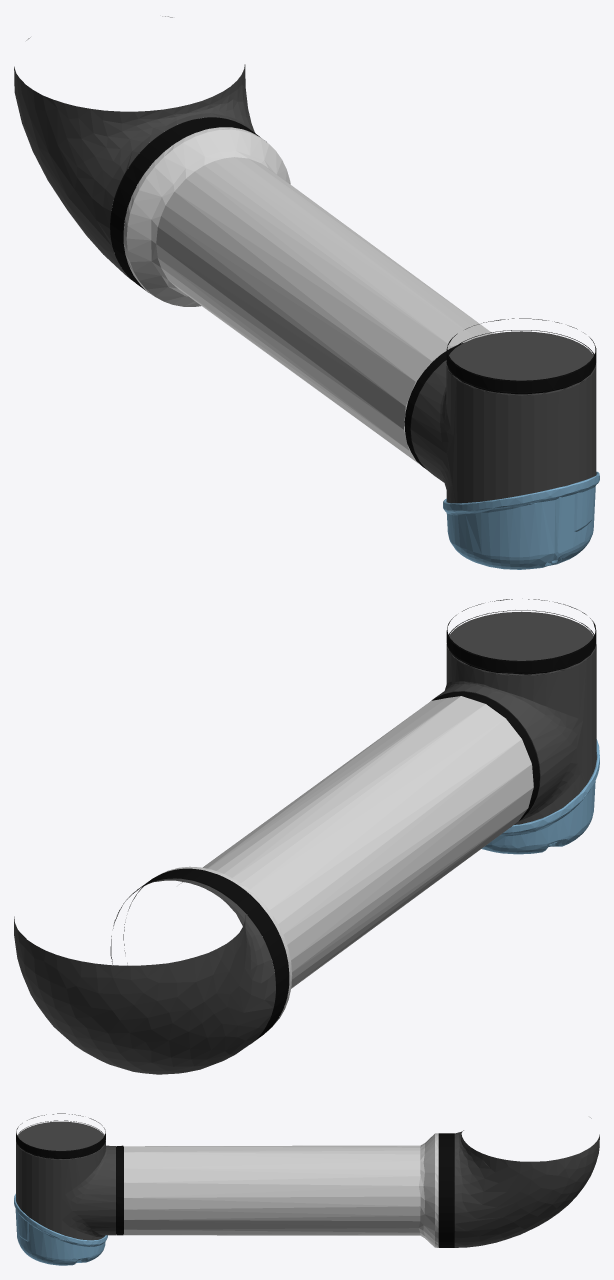
Rendered from forearm.glb.
3 renders of one model, top to bottom at view 1: azimuth 30°, elevation 25°; view 2: azimuth 150°, elevation 25°; view 3: azimuth 270°, elevation 25°, orthographic. The views are drawn at different scales.
Visible parts, largest first — view 1: eSeries_UR5e_022, eSeries_UR5e_028, eSeries_UR5e_020, eSeries_UR5e_024, eSeries_UR5e_021, eSeries_UR5e_025, eSeries_UR5e_023; view 2: eSeries_UR5e_022, eSeries_UR5e_020, eSeries_UR5e_028, eSeries_UR5e_024, eSeries_UR5e_021, eSeries_UR5e_025, eSeries_UR5e_023; view 3: eSeries_UR5e_022, eSeries_UR5e_020, eSeries_UR5e_028, eSeries_UR5e_024, eSeries_UR5e_021, eSeries_UR5e_025, eSeries_UR5e_023.
Boxes of the visible parts, x1,y1,x2,y2 form: eSeries_UR5e_022: (123,127,492,465); eSeries_UR5e_028: (410,331,596,503); eSeries_UR5e_020: (14,16,255,281); eSeries_UR5e_024: (443,471,599,569); eSeries_UR5e_021: (110,117,266,293); eSeries_UR5e_025: (446,318,596,394); eSeries_UR5e_023: (404,343,463,468); eSeries_UR5e_022: (156,696,533,1030); eSeries_UR5e_020: (14,878,275,1074); eSeries_UR5e_028: (431,611,596,824); eSeries_UR5e_024: (481,739,599,854); eSeries_UR5e_021: (111,868,289,1044); eSeries_UR5e_025: (446,599,596,674); eSeries_UR5e_023: (432,691,539,820); eSeries_UR5e_022: (124,1133,438,1247); eSeries_UR5e_020: (454,1117,599,1247); eSeries_UR5e_028: (16,1121,115,1240); eSeries_UR5e_024: (14,1194,107,1265); eSeries_UR5e_021: (438,1133,454,1247); eSeries_UR5e_025: (16,1113,105,1159); eSeries_UR5e_023: (116,1145,123,1235).
Size of the model in its own units: 0.1158 by 0.1099 by 0.4893.
